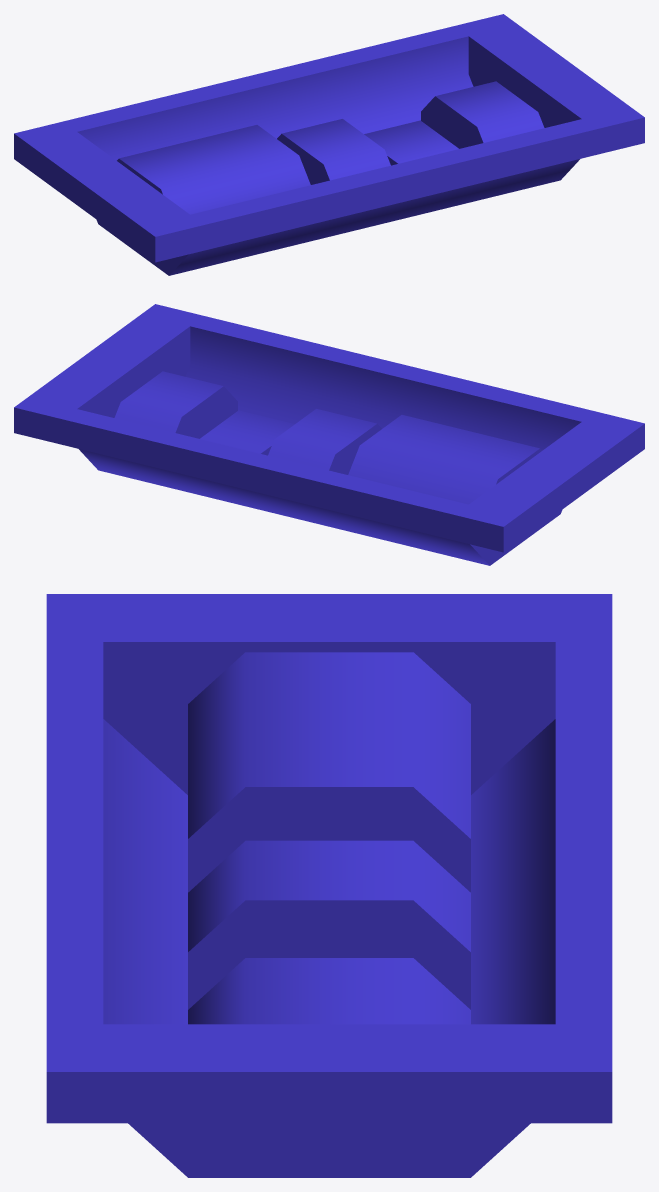
The model's file is Ceiling_A_2x1m.FBX.
The picture shows the model from 3 angles, top to bottom: view 1: azimuth 30°, elevation 25°; view 2: azimuth 150°, elevation 25°; view 3: azimuth 270°, elevation 25°; orthographic projection. The views are drawn at different scales.
Visible parts, largest first — view 1: Ceiling_A_2x1m; view 2: Ceiling_A_2x1m; view 3: Ceiling_A_2x1m.
Boxes of the visible parts, bbox=[...] form: Ceiling_A_2x1m: bbox=[14, 14, 644, 275]; Ceiling_A_2x1m: bbox=[14, 304, 644, 565]; Ceiling_A_2x1m: bbox=[46, 594, 612, 1177].
Bounding box in the file's own units: 200 × 30 × 100.
